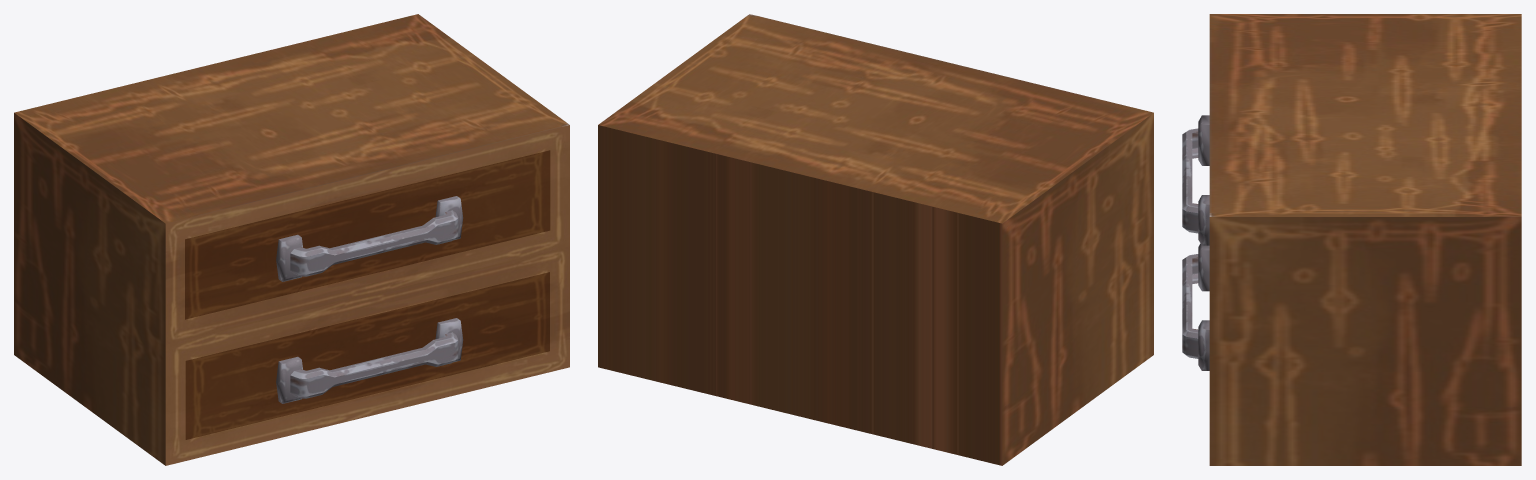
Rendered from Workbench_Drawers.gltf.
The picture shows the model from 3 angles, left to right: view 1: azimuth 30°, elevation 25°; view 2: azimuth 150°, elevation 25°; view 3: azimuth 270°, elevation 25°; orthographic projection. The views are drawn at different scales.
Parts seen in each view (by area): view 1: Workbench_Drawers; view 2: Workbench_Drawers; view 3: Workbench_Drawers.
Boxes of the visible parts, <box> form: Workbench_Drawers: <box>14,14,569,465</box>; Workbench_Drawers: <box>598,14,1153,465</box>; Workbench_Drawers: <box>1182,14,1521,465</box>.
Size of the model in its own units: 0.4231 by 0.2423 by 0.299.
Materials: 2 (2 with a texture image).
